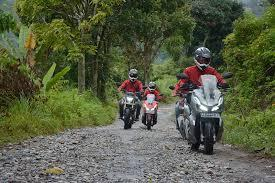Pothole: (39, 161, 69, 183)
